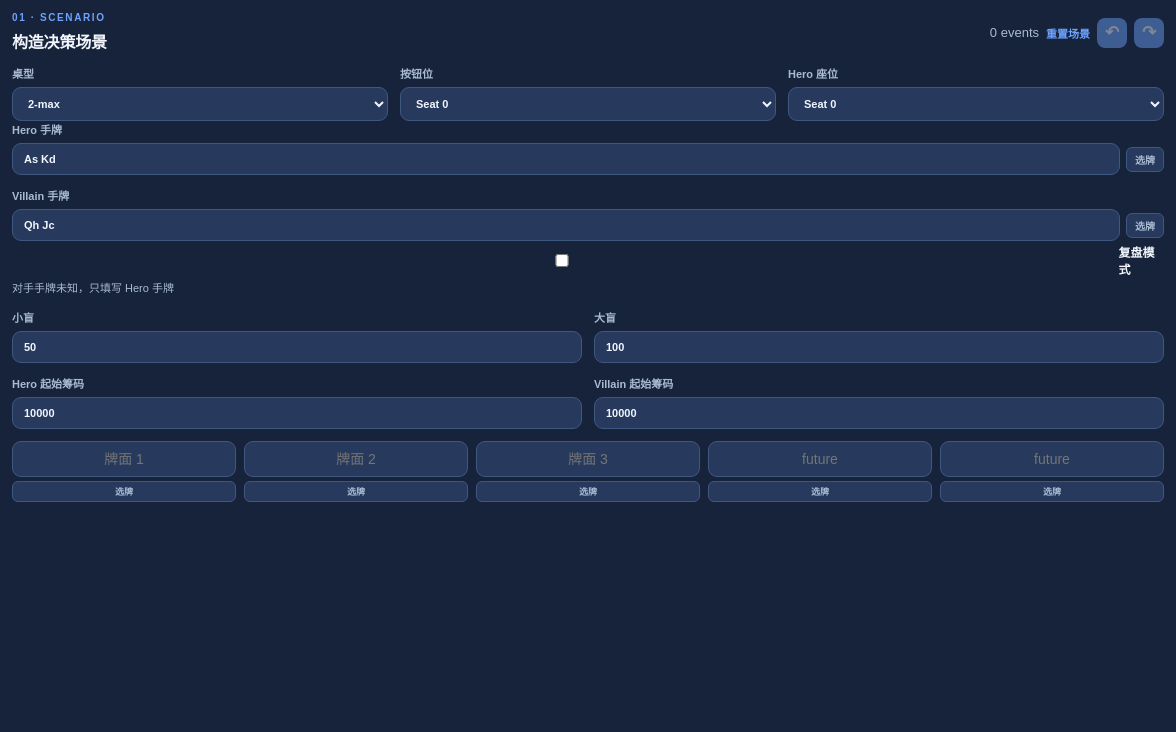
it: ScenarioEditor 52-card picker › disables already-used cards inside the picker
Click the button with aria-label "为 Hero 手牌选牌" at x=1145, y=159, box x1=1126 y1=146 x2=1164 y2=172
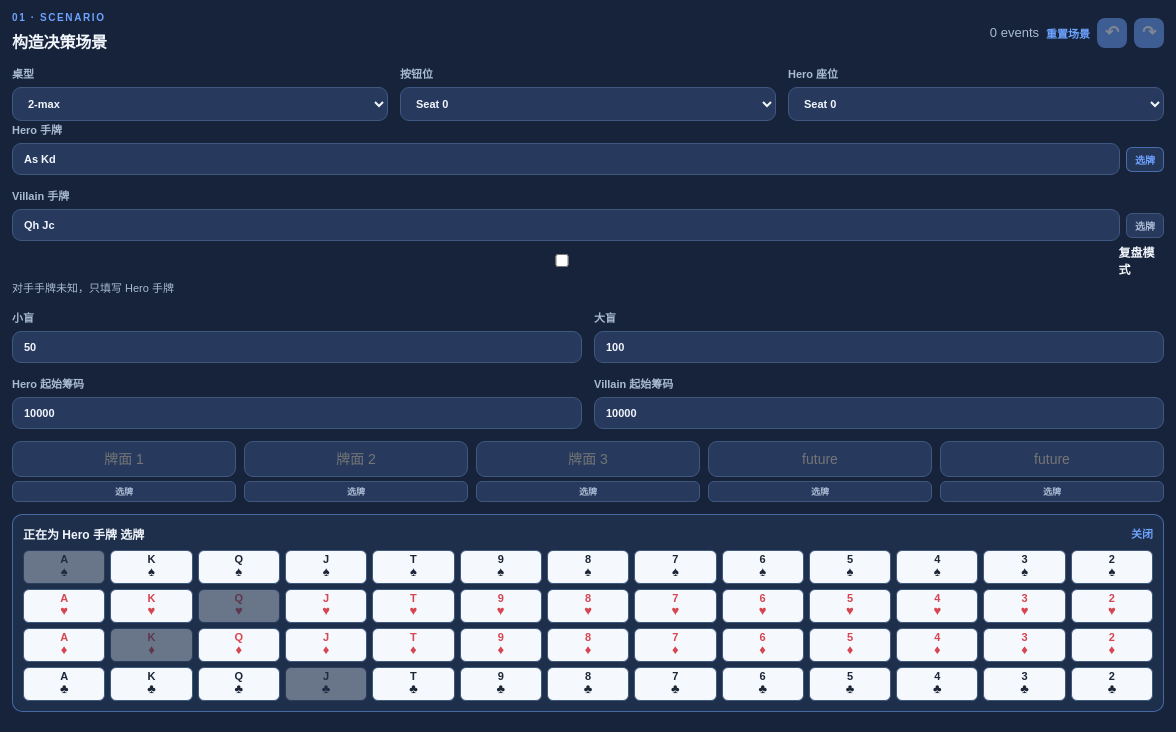
Check: the button named "选牌 As" is disabled, box x1=23 y1=550 x2=105 y2=584
Check: the button named "选牌 Qh" is disabled, box x1=198 y1=588 x2=280 y2=622
